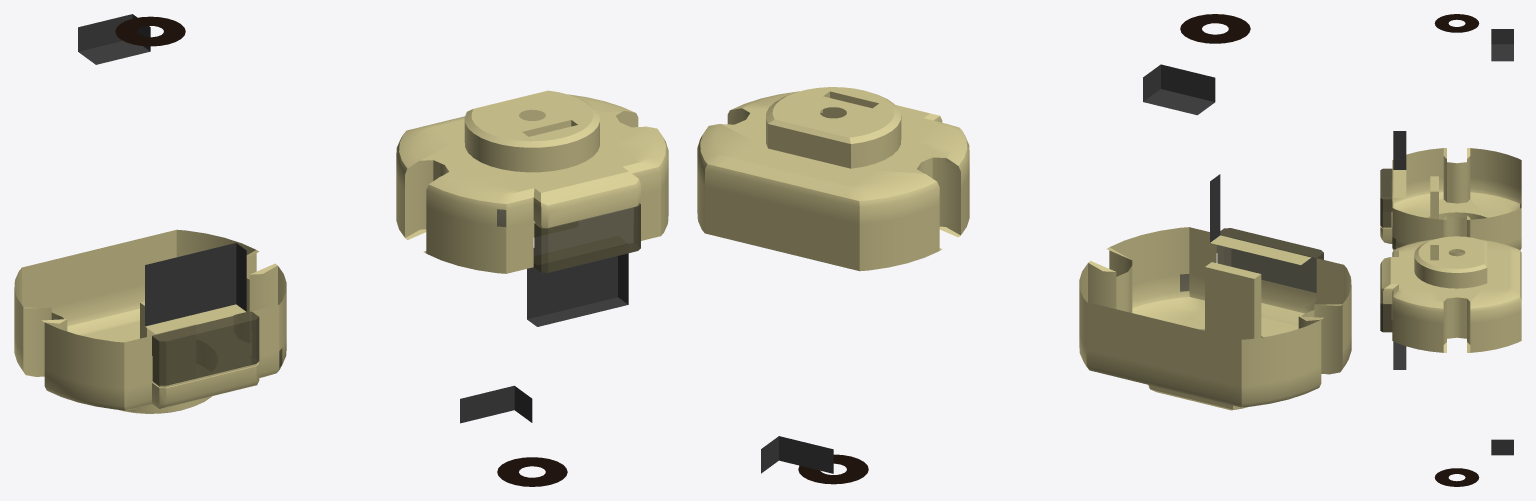
Rendered from motors.obj.
3 renders of one model, left to right at view 1: azimuth 30°, elevation 25°; view 2: azimuth 150°, elevation 25°; view 3: azimuth 270°, elevation 25°, orthographic. The views are drawn at different scales.
Visible parts, largest first — view 1: FA-130RA-2270; view 2: FA-130RA-2270; view 3: FA-130RA-2270.
Part boxes in pixels (bbox=[...]): FA-130RA-2270: bbox=[14, 14, 668, 486]; FA-130RA-2270: bbox=[697, 14, 1351, 484]; FA-130RA-2270: bbox=[1380, 14, 1521, 486].
Bounding box in the file's own units: 0.0524 × 0.0434 × 0.0165.
